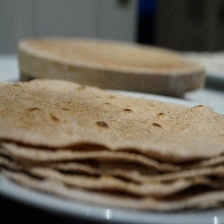roti: (0, 70, 224, 221)
